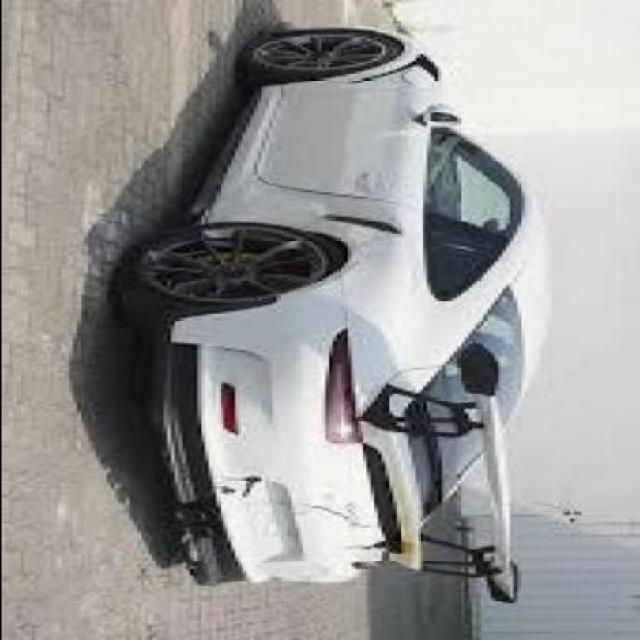damage: (294, 499, 364, 527), (208, 471, 267, 503), (339, 535, 385, 550)
